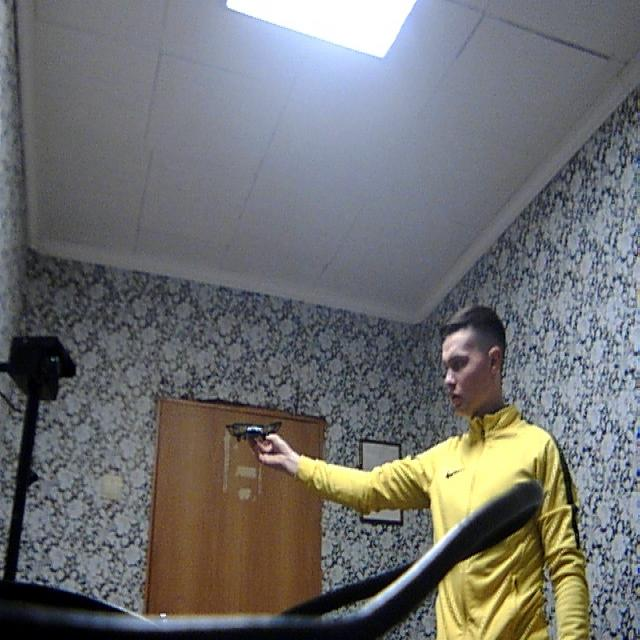drone: (222, 394, 288, 453)
